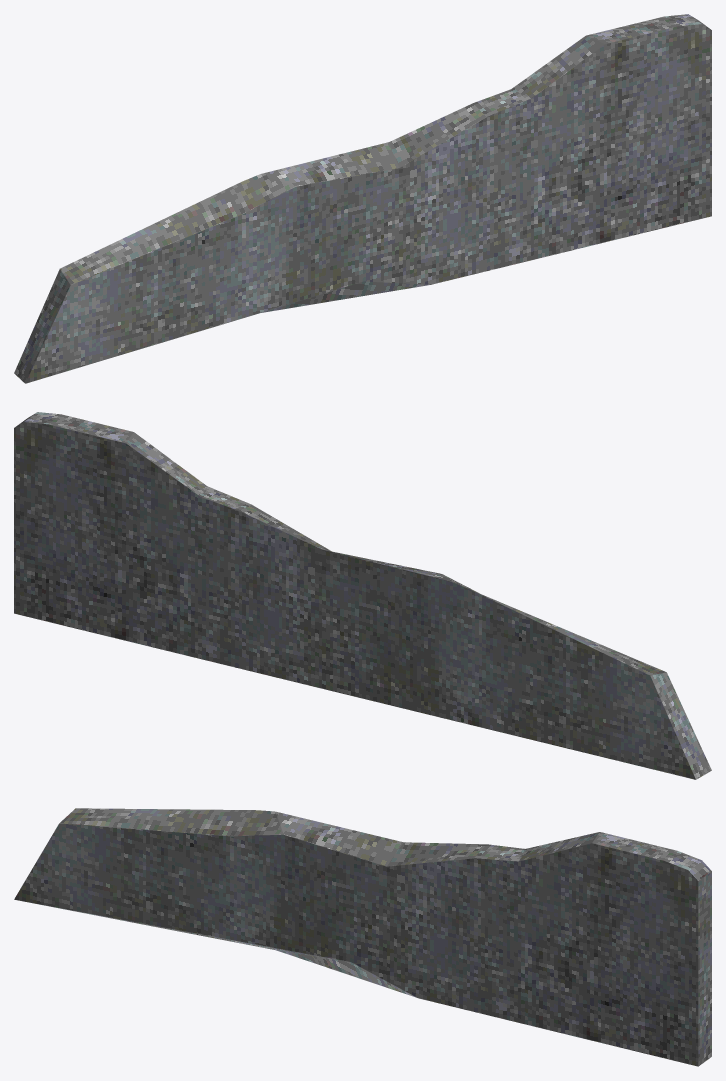
File: plackard_slab_boken.glb
3 renders of one model, top to bottom at view 1: azimuth 30°, elevation 25°; view 2: azimuth 150°, elevation 25°; view 3: azimuth 330°, elevation 25°, orthographic.
Visible parts, largest first — view 1: plackard_slab_boken; view 2: plackard_slab_boken; view 3: plackard_slab_boken.
Part boxes in pixels (bbox=[...]): plackard_slab_boken: bbox=[14, 14, 711, 383]; plackard_slab_boken: bbox=[14, 412, 711, 779]; plackard_slab_boken: bbox=[14, 808, 711, 1066].
Bounding box in the file's own units: 2.9 × 0.8 × 0.1.
1 material, 1 textured.
